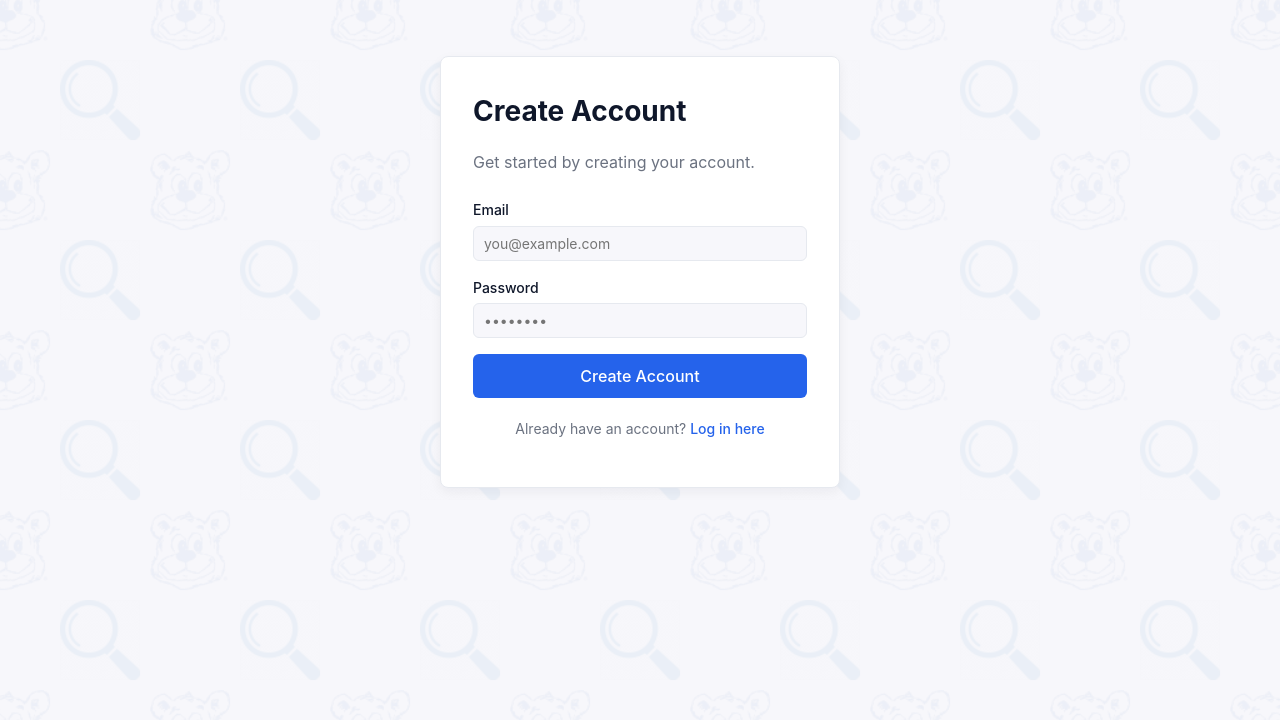
Test: SignUpPage › shows an error message when registration fails
Type "existing@example.com" into the field labelled "Email" at (640, 243), box [473,226,807,261]
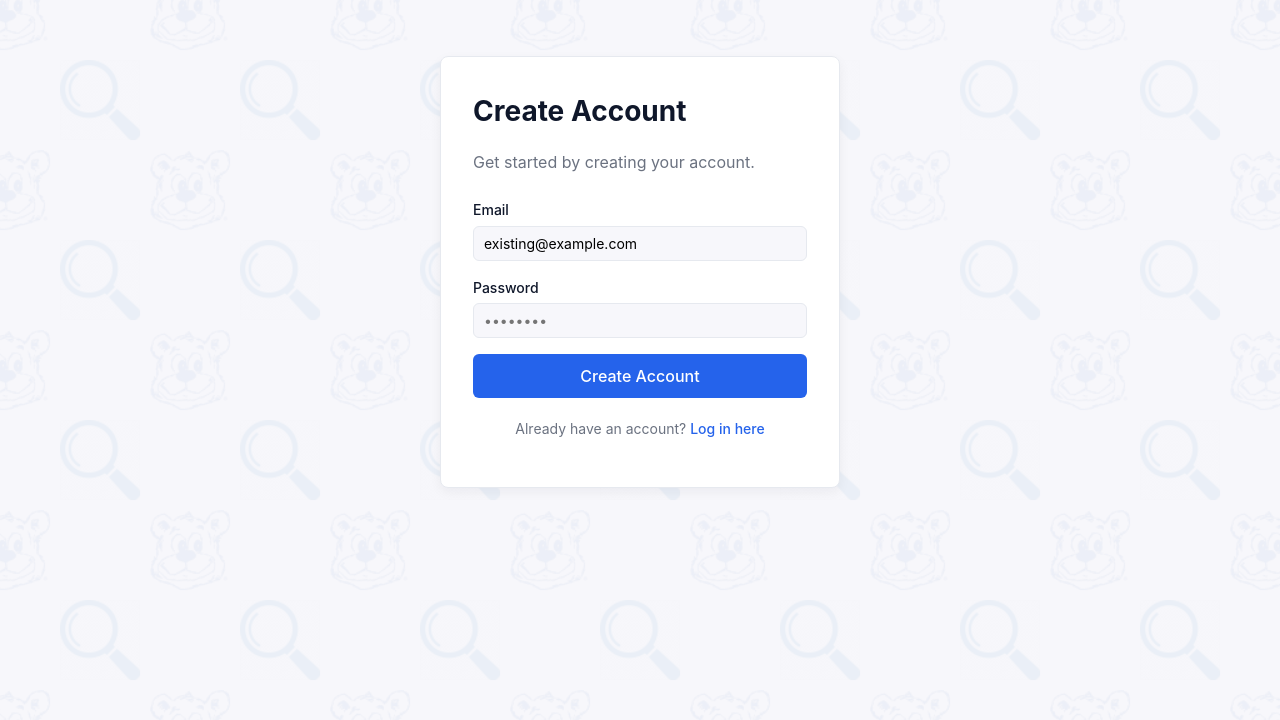
Type "StrongPass1!" into the password field labelled "Password" at (640, 321), box [473,303,807,338]
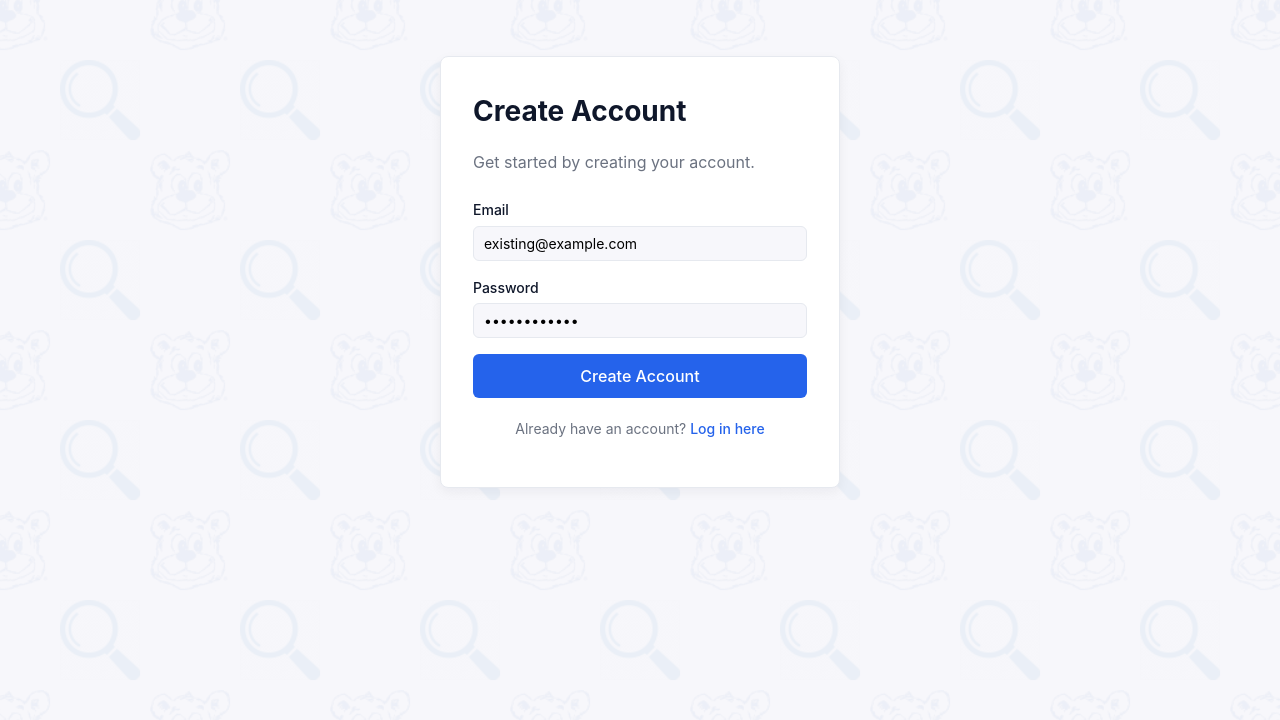
Click the button "Create Account" at (640, 376), box [473,354,807,398]
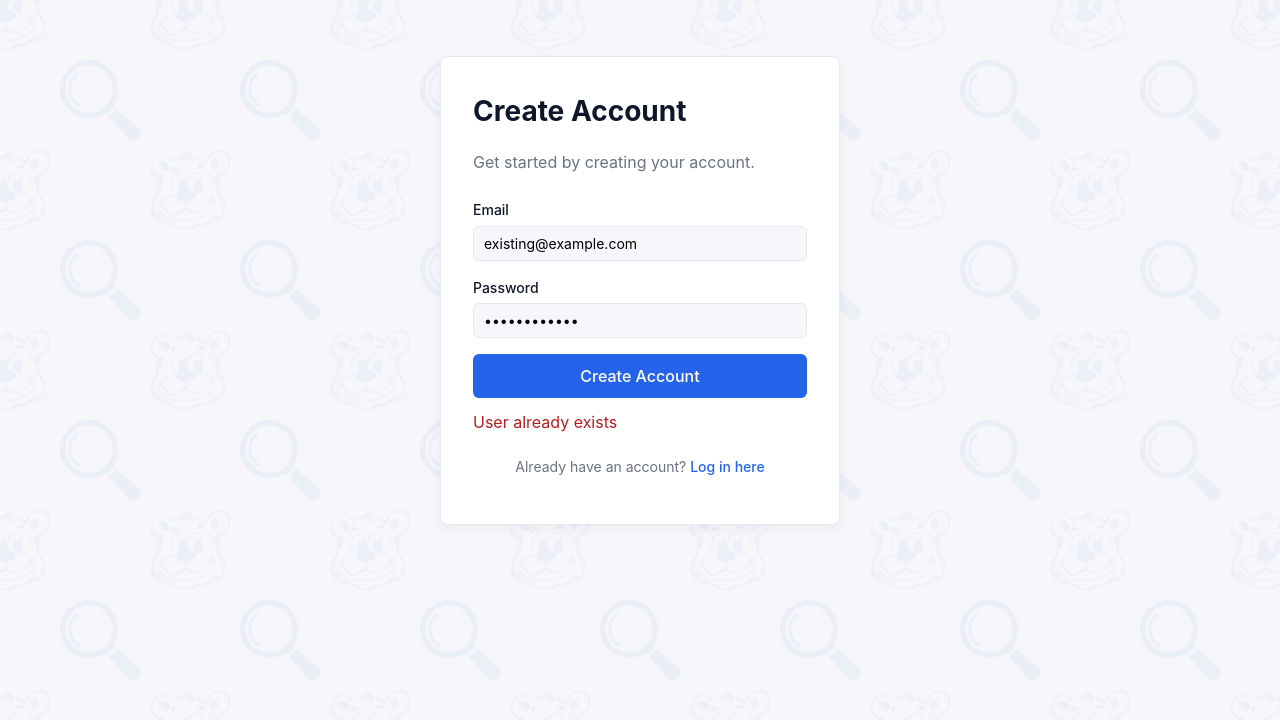
Expected: the text "User already exists" is shown, [473,412,617,432]
